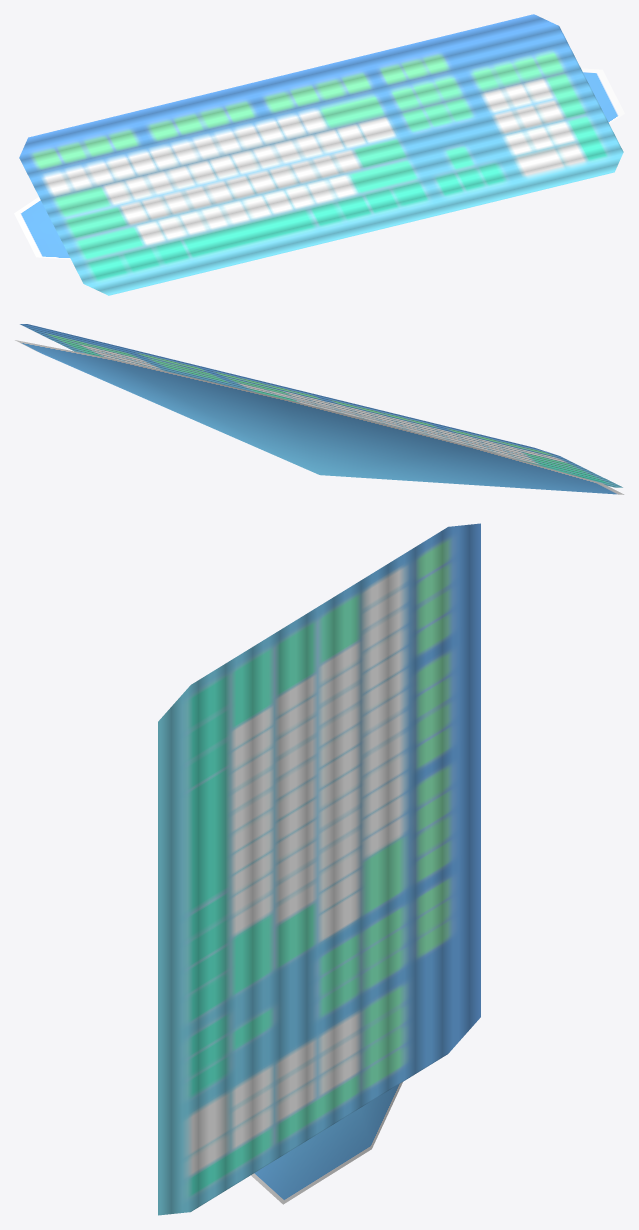
Rendered from Terminal_009_monitor_002.fbx.
The picture shows the model from 3 angles, top to bottom: view 1: azimuth 30°, elevation 25°; view 2: azimuth 150°, elevation 25°; view 3: azimuth 270°, elevation 25°; orthographic projection. The views are drawn at different scales.
Visible parts, largest first — view 1: Terminal_009_monitor_002; view 2: Terminal_009_monitor_002; view 3: Terminal_009_monitor_002.
Part boxes in pixels (x1,y1,x2,y2): Terminal_009_monitor_002: (14, 14, 624, 295); Terminal_009_monitor_002: (15, 324, 624, 494); Terminal_009_monitor_002: (158, 523, 480, 1215).
Bounding box in the file's own units: 70.55 × 16.76 × 13.45.
